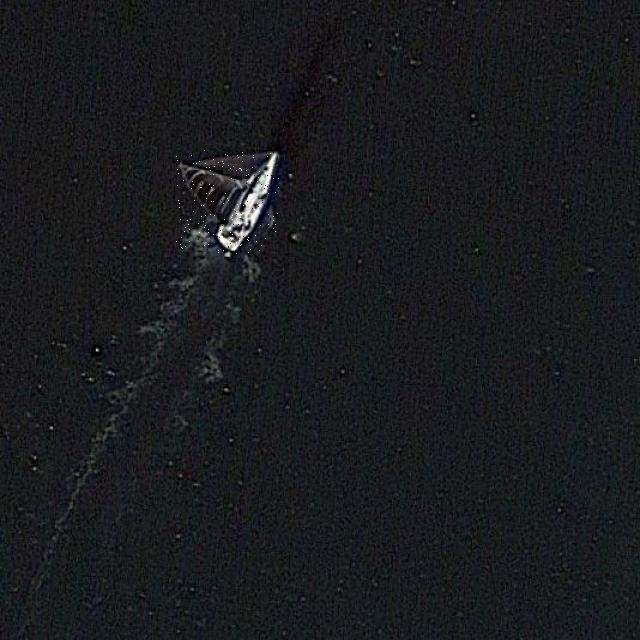boat: (175, 148, 279, 254)
